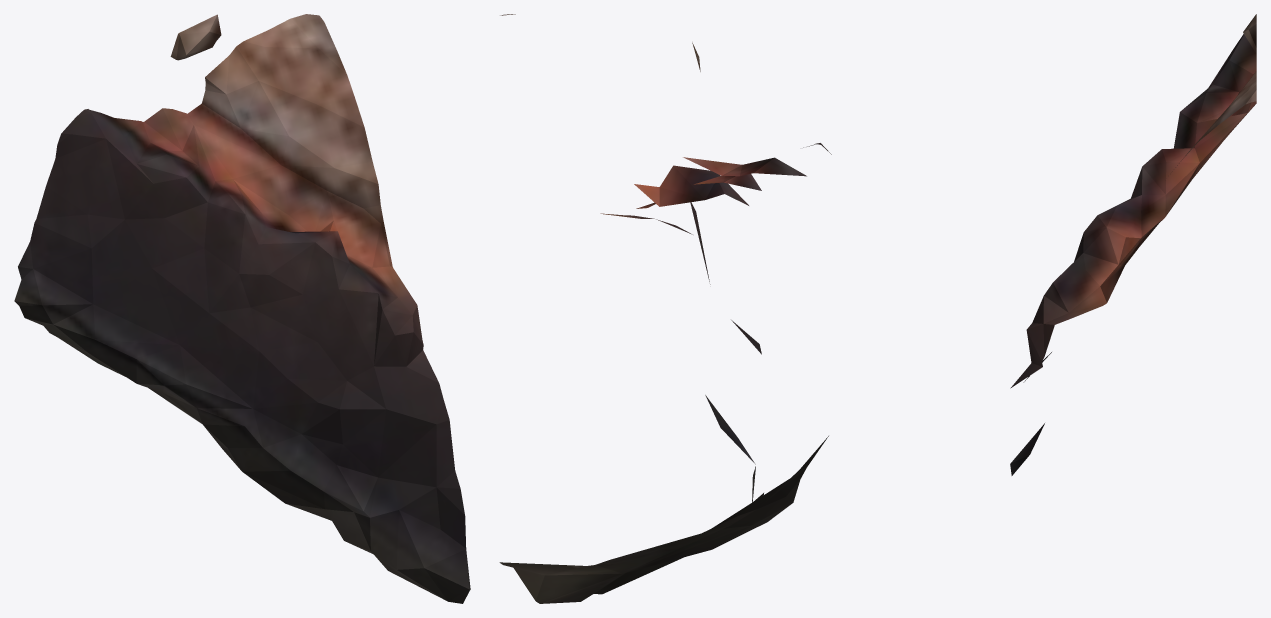
The picture shows the model from 3 angles, left to right: view 1: azimuth 30°, elevation 25°; view 2: azimuth 150°, elevation 25°; view 3: azimuth 270°, elevation 25°; orthographic projection. The views are drawn at different scales.
Bounding box in the file's own units: 0.2403 × 0.3878 × 0.2066.
Materials: 1 (1 with a texture image).
